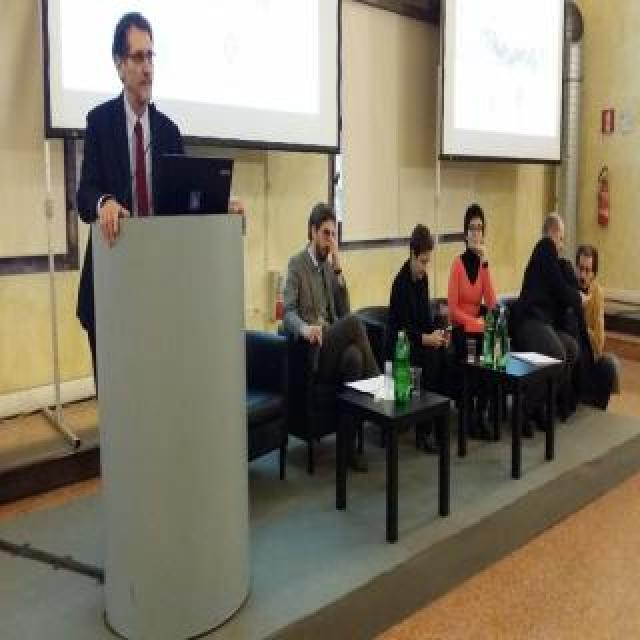laptop_computer: (146, 150, 255, 229)
